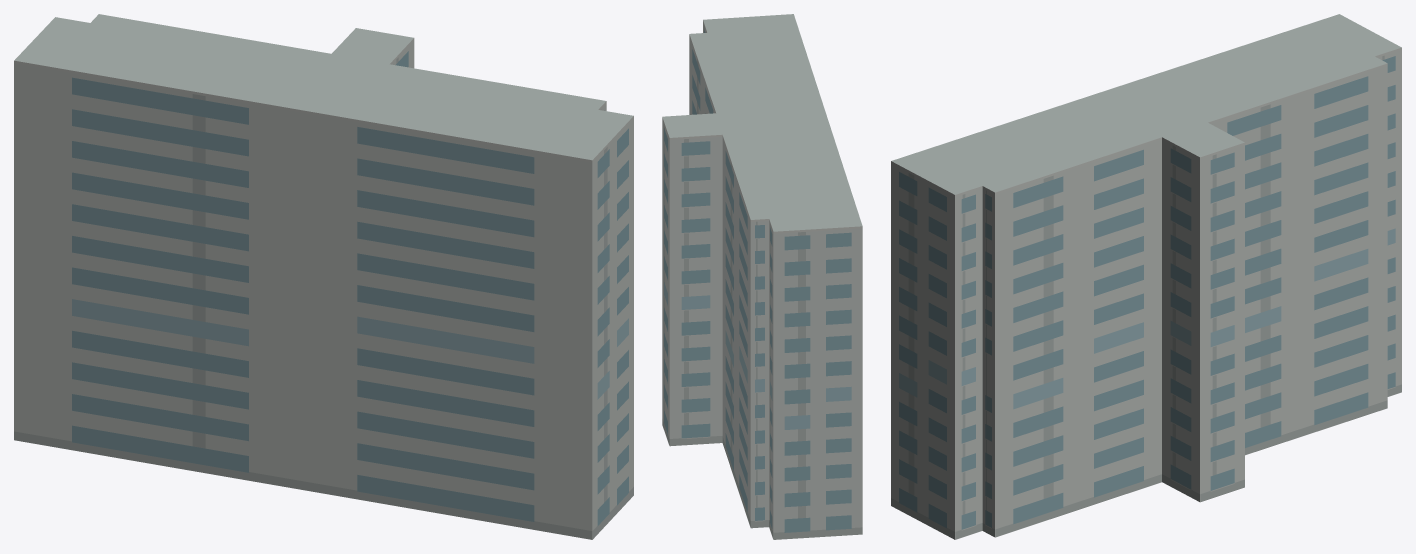
File: residential-d142d9a8-e0a4-4e20-a376-ed6d902be720.glb
3 renders of one model, left to right at view 1: azimuth 30°, elevation 25°; view 2: azimuth 150°, elevation 25°; view 3: azimuth 270°, elevation 25°, orthographic. The views are drawn at different scales.
Visible parts, largest first — view 1: residential-d142d9a8-e0a4-4e20-a376-ed6d902be720.tmp; view 2: residential-d142d9a8-e0a4-4e20-a376-ed6d902be720.tmp; view 3: residential-d142d9a8-e0a4-4e20-a376-ed6d902be720.tmp.
Boxes of the visible parts, bbox=[...] form: residential-d142d9a8-e0a4-4e20-a376-ed6d902be720.tmp: bbox=[14, 14, 633, 539]; residential-d142d9a8-e0a4-4e20-a376-ed6d902be720.tmp: bbox=[662, 14, 862, 539]; residential-d142d9a8-e0a4-4e20-a376-ed6d902be720.tmp: bbox=[891, 14, 1401, 539].
Size of the model in its own units: 40.53 by 36 by 48.32.
